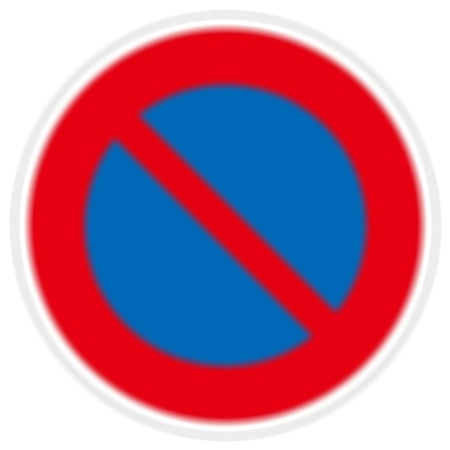Prohibition_sign: (4, 4, 444, 449)
